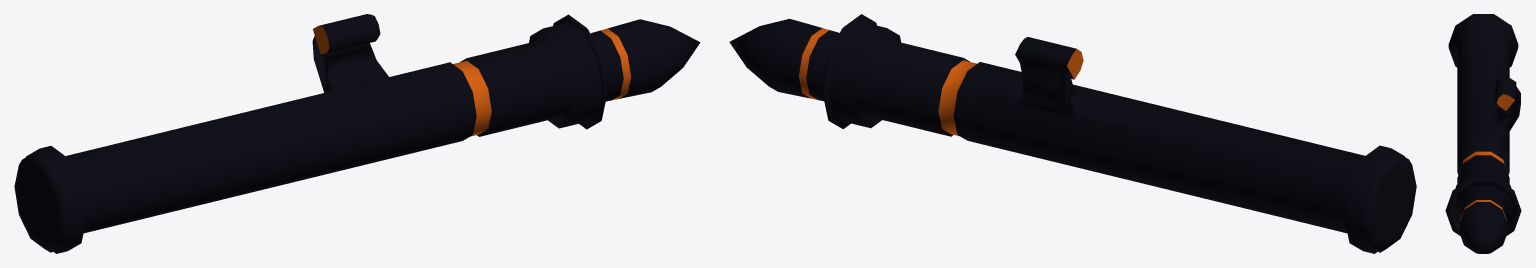
3 views of the same model, side by side, from view 1: azimuth 30°, elevation 25°; view 2: azimuth 150°, elevation 25°; view 3: azimuth 270°, elevation 25° (orthographic). The views are drawn at different scales.
Visible parts, largest first — view 1: 바주카포, 포탄; view 2: 바주카포, 포탄; view 3: 바주카포, 포탄.
Boxes of the visible parts, x1,y1,x2,y2 form: 바주카포: (14, 14, 607, 253); 포탄: (590, 19, 700, 101); 바주카포: (822, 14, 1416, 253); 포탄: (729, 18, 839, 101); 바주카포: (1445, 14, 1521, 235); 포탄: (1459, 190, 1507, 253).
Size of the model in its own units: 16.06 by 3.32 by 2.48.
